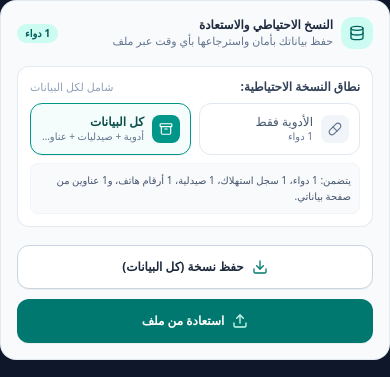
it: BackupRestoreSection Component › switches between "الأدوية فقط" and "كل البيانات"
The width and height of the screenshot is (390, 377).
Expected: the text "حفظ نسخة (كل البيانات)" is shown, [122, 258, 244, 274]
# Click medications only
Click the button "الأدوية فقط 1 دواء" at x=280, y=129, box [199, 103, 360, 155]
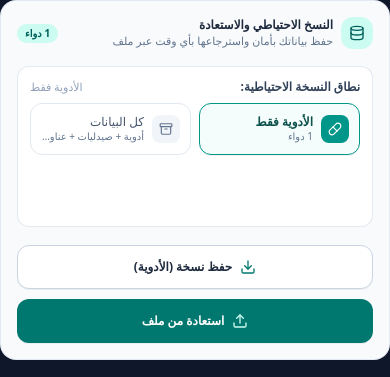
Expected: the text "حفظ نسخة (الأدوية)" is shown, [134, 258, 232, 274]
